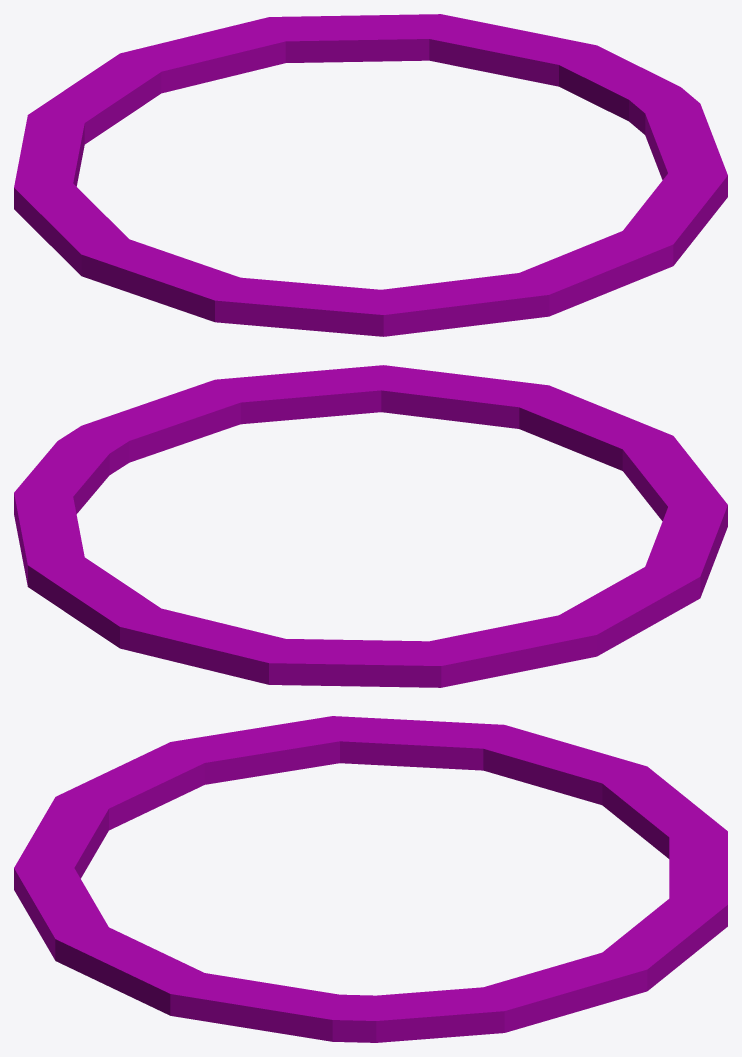
File: Aro de cebolla .obj
3 renders of one model, top to bottom at view 1: azimuth 30°, elevation 25°; view 2: azimuth 150°, elevation 25°; view 3: azimuth 270°, elevation 25°, orthographic.
Parts seen in each view (by area): view 1: Aro_de_cebolla; view 2: Aro_de_cebolla; view 3: Aro_de_cebolla.
Boxes of the visible parts, left/top/right/bottom form: Aro_de_cebolla: left=14, top=14, right=727, bottom=336; Aro_de_cebolla: left=14, top=365, right=727, bottom=687; Aro_de_cebolla: left=14, top=716, right=727, bottom=1042.
Size of the model in its own units: 29.89 by 1 by 29.56.
